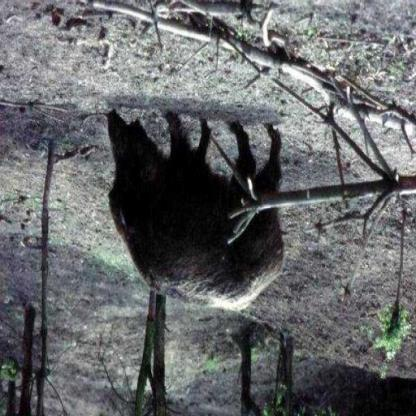boar: (80, 97, 316, 331)
